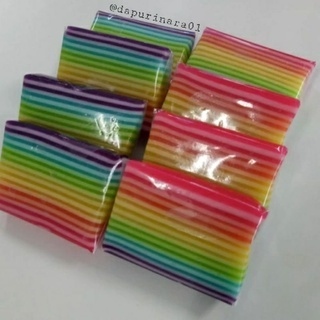kue_lapis_pelangi: (107, 164, 266, 307), (0, 119, 125, 256)
